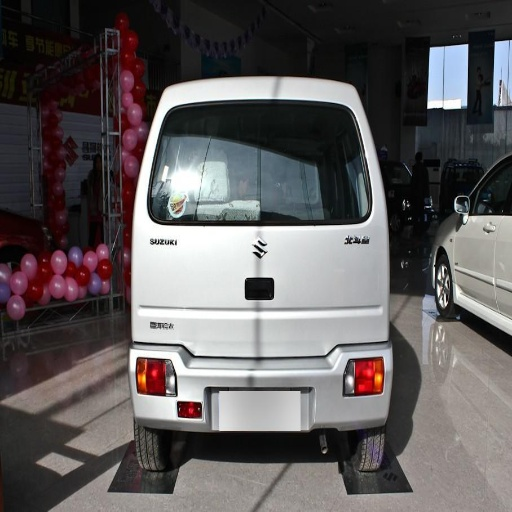back_bumper: (133, 341, 395, 428)
back_glass: (176, 104, 339, 223)
trunk: (135, 229, 378, 386)
